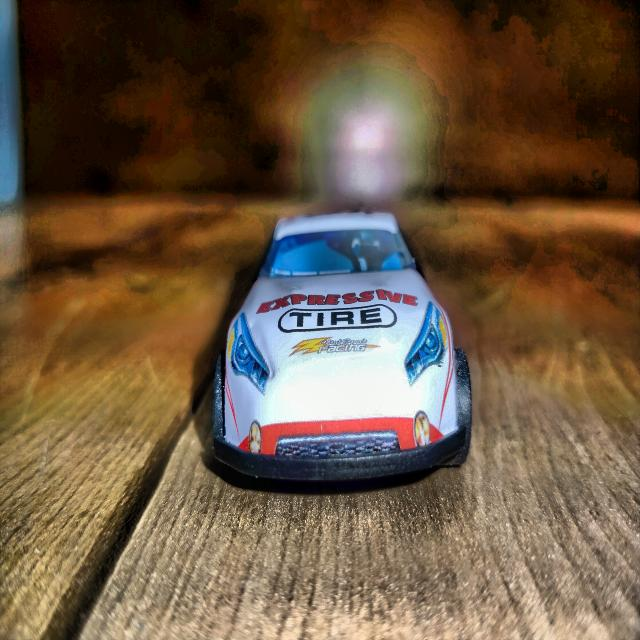Car: (214, 214, 469, 481)
